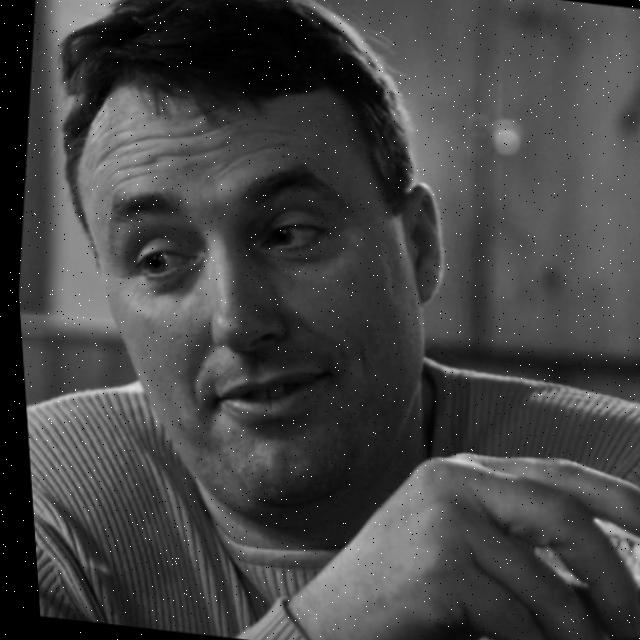puffy_eyes: (250, 229, 334, 279), (139, 255, 201, 294)
